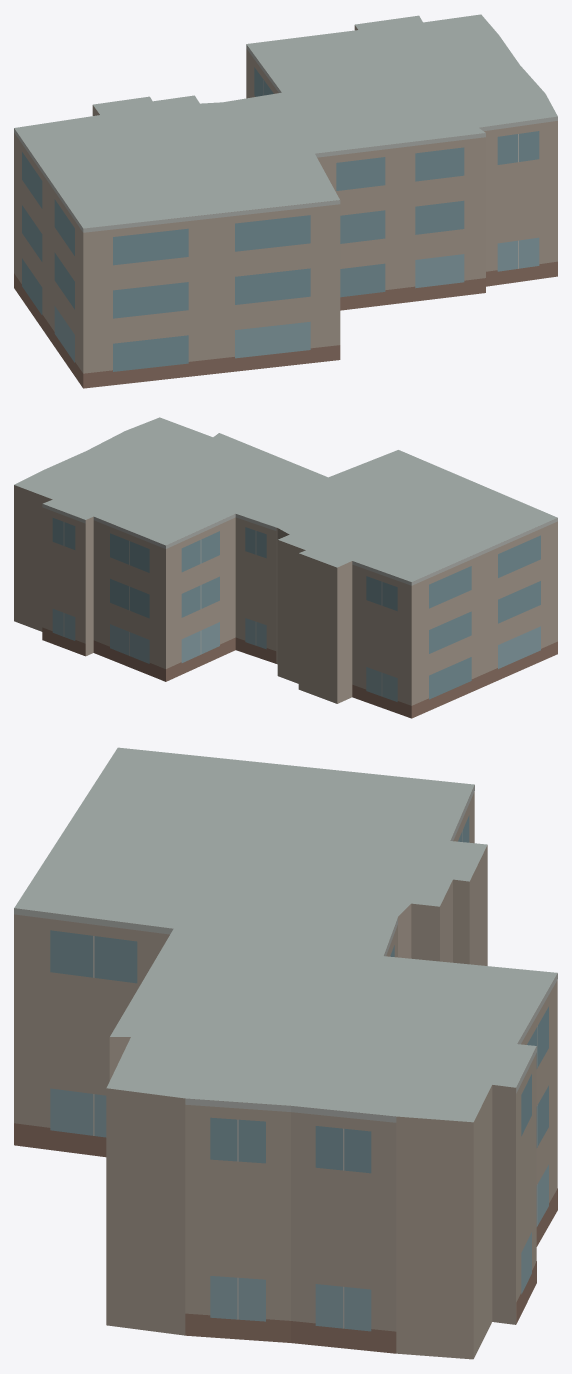
Rendered from survey-upis-32894721.glb.
3 renders of one model, top to bottom at view 1: azimuth 30°, elevation 25°; view 2: azimuth 150°, elevation 25°; view 3: azimuth 270°, elevation 25°, orthographic. The views are drawn at different scales.
Visible parts, largest first — view 1: survey-upis-32894721.tmp; view 2: survey-upis-32894721.tmp; view 3: survey-upis-32894721.tmp.
Part boxes in pixels (x1,y1,x2,y2): survey-upis-32894721.tmp: (14, 14, 557, 388); survey-upis-32894721.tmp: (14, 417, 557, 718); survey-upis-32894721.tmp: (14, 747, 557, 1359).
Bounding box in the file's own units: 31.01 × 9.15 × 19.02.
